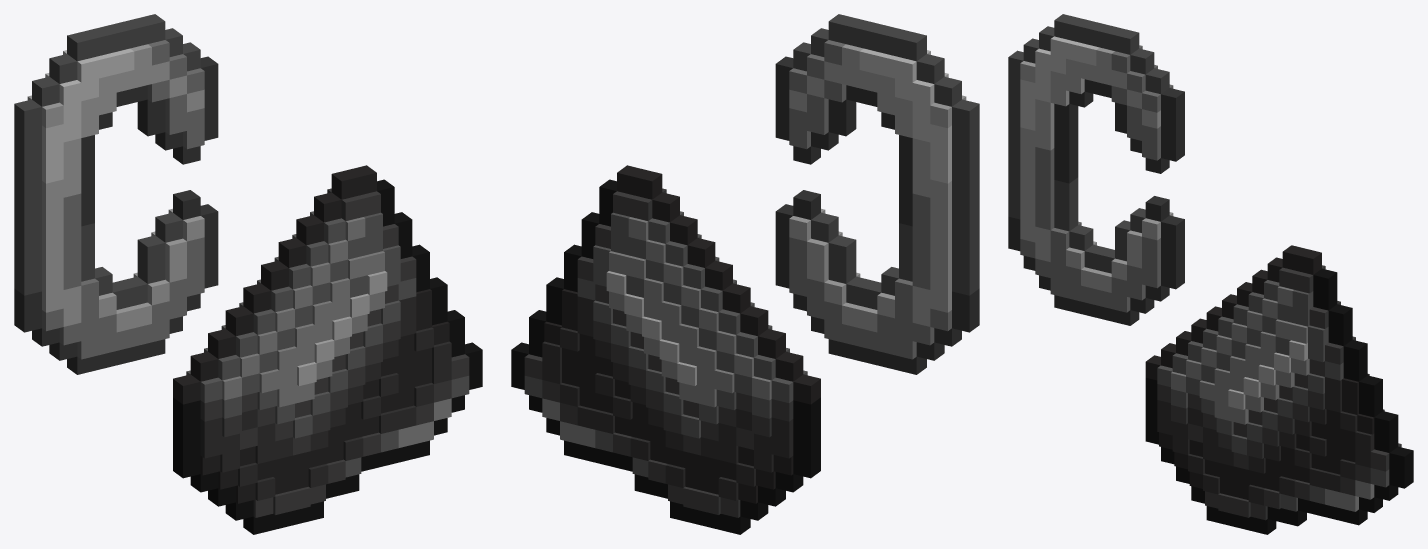
File: flint_and_steel.gltf
3 renders of one model, left to right at view 1: azimuth 30°, elevation 25°; view 2: azimuth 150°, elevation 25°; view 3: azimuth 330°, elevation 25°, orthographic. The views are drawn at different scales.
Visible parts, largest first — view 1: 2e89ff89-7f1c-f20c-6b37-94a4aad4f349, 874f2fcc-95f9-daad-d79f-1fd7f26d0c9c, 3a9b9eb3-7bf6-0447-aec5-06a8ca1baee4, d02a0d52-06c9-35c9-1c85-1621d88c927f, 73e2785c-5d25-9f58-1f35-d66bf0116b89, 7d16d244-9094-1159-dfb6-5b3142d85cbd, fdf95f4b-ac48-5818-5d3e-8d692c374ca5, 5b39531d-0bf9-eeb9-8426-293878772958, 8e9509f9-c2ca-06b1-7543-3f88b6f4b1ee, 52ed979d-135c-8628-5335-ab177759d040, 63164bf8-4432-d424-8bcd-0da6cb3588f1, d06b6376-a676-254c-1184-9c52ab6865c1 (+7 smaller); view 2: 2e89ff89-7f1c-f20c-6b37-94a4aad4f349, 874f2fcc-95f9-daad-d79f-1fd7f26d0c9c, 3a9b9eb3-7bf6-0447-aec5-06a8ca1baee4, d02a0d52-06c9-35c9-1c85-1621d88c927f, 73e2785c-5d25-9f58-1f35-d66bf0116b89, 7d16d244-9094-1159-dfb6-5b3142d85cbd, fdf95f4b-ac48-5818-5d3e-8d692c374ca5, 5b39531d-0bf9-eeb9-8426-293878772958, 8e9509f9-c2ca-06b1-7543-3f88b6f4b1ee, 52ed979d-135c-8628-5335-ab177759d040, 63164bf8-4432-d424-8bcd-0da6cb3588f1, d06b6376-a676-254c-1184-9c52ab6865c1 (+7 smaller); view 3: 84a2991b-6203-9f57-4290-29fb92542616, 29a04b55-83eb-6664-58ca-eca6adff6029, 500216b6-ee92-0c1f-39d1-578d0d23c7f4, 2288a6da-fec9-92b4-72eb-2792d8fe10b9, 8fe50251-78f1-d889-354b-db48e8ae45eb, 6845fa29-3194-8ff2-214e-f18df4dbf055, 1cef0a62-3781-9269-e3dc-9a1cabcce1b9, 04b38a90-aa01-f1f3-3586-ced8c462b234, 1b57e6e7-e02a-7907-07b4-cd433823f39e, fab6f1ab-2dbf-2ce8-6490-75a6d9255e63, 98b4e036-bc4d-bbcf-fc09-87e22f4b2986, c82f5584-befa-9412-542e-a5433ff2aa45 (+2 smaller).
Part boxes in pixels (x1=…): 2e89ff89-7f1c-f20c-6b37-94a4aad4f349: x1=190, y1=351, x2=218, y2=381; 874f2fcc-95f9-daad-d79f-1fd7f26d0c9c: x1=278, y1=238, x2=306, y2=267; 3a9b9eb3-7bf6-0447-aec5-06a8ca1baee4: x1=137, y1=235, x2=165, y2=265; d02a0d52-06c9-35c9-1c85-1621d88c927f: x1=331, y1=169, x2=359, y2=199; 73e2785c-5d25-9f58-1f35-d66bf0116b89: x1=225, y1=306, x2=253, y2=336; 7d16d244-9094-1159-dfb6-5b3142d85cbd: x1=243, y1=283, x2=271, y2=313; fdf95f4b-ac48-5818-5d3e-8d692c374ca5: x1=49, y1=54, x2=77, y2=83; 5b39531d-0bf9-eeb9-8426-293878772958: x1=14, y1=99, x2=41, y2=129; 8e9509f9-c2ca-06b1-7543-3f88b6f4b1ee: x1=173, y1=374, x2=200, y2=404; 52ed979d-135c-8628-5335-ab177759d040: x1=314, y1=192, x2=341, y2=222; 63164bf8-4432-d424-8bcd-0da6cb3588f1: x1=155, y1=212, x2=182, y2=242; d06b6376-a676-254c-1184-9c52ab6865c1: x1=67, y1=31, x2=94, y2=61; 2e89ff89-7f1c-f20c-6b37-94a4aad4f349: x1=775, y1=351, x2=803, y2=381; 874f2fcc-95f9-daad-d79f-1fd7f26d0c9c: x1=687, y1=238, x2=715, y2=267; 3a9b9eb3-7bf6-0447-aec5-06a8ca1baee4: x1=828, y1=235, x2=856, y2=265; d02a0d52-06c9-35c9-1c85-1621d88c927f: x1=634, y1=169, x2=662, y2=199; 73e2785c-5d25-9f58-1f35-d66bf0116b89: x1=740, y1=306, x2=768, y2=336; 7d16d244-9094-1159-dfb6-5b3142d85cbd: x1=722, y1=283, x2=750, y2=313; fdf95f4b-ac48-5818-5d3e-8d692c374ca5: x1=916, y1=54, x2=944, y2=83; 5b39531d-0bf9-eeb9-8426-293878772958: x1=952, y1=99, x2=979, y2=129; 8e9509f9-c2ca-06b1-7543-3f88b6f4b1ee: x1=793, y1=374, x2=820, y2=404; 52ed979d-135c-8628-5335-ab177759d040: x1=652, y1=192, x2=679, y2=222; 63164bf8-4432-d424-8bcd-0da6cb3588f1: x1=811, y1=212, x2=838, y2=242; d06b6376-a676-254c-1184-9c52ab6865c1: x1=899, y1=31, x2=926, y2=61; 84a2991b-6203-9f57-4290-29fb92542616: x1=1389, y1=446, x2=1413, y2=472; 29a04b55-83eb-6664-58ca-eca6adff6029: x1=1343, y1=340, x2=1367, y2=365; 500216b6-ee92-0c1f-39d1-578d0d23c7f4: x1=1328, y1=304, x2=1352, y2=330; 2288a6da-fec9-92b4-72eb-2792d8fe10b9: x1=1130, y1=48, x2=1154, y2=74; 8fe50251-78f1-d889-354b-db48e8ae45eb: x1=1374, y1=411, x2=1398, y2=436; 6845fa29-3194-8ff2-214e-f18df4dbf055: x1=1069, y1=225, x2=1093, y2=250; 1cef0a62-3781-9269-e3dc-9a1cabcce1b9: x1=1313, y1=268, x2=1337, y2=294; 04b38a90-aa01-f1f3-3586-ced8c462b234: x1=1145, y1=196, x2=1169, y2=221; 1b57e6e7-e02a-7907-07b4-cd433823f39e: x1=1145, y1=68, x2=1169, y2=94; fab6f1ab-2dbf-2ce8-6490-75a6d9255e63: x1=1115, y1=29, x2=1139, y2=54; 98b4e036-bc4d-bbcf-fc09-87e22f4b2986: x1=1161, y1=215, x2=1184, y2=241; c82f5584-befa-9412-542e-a5433ff2aa45: x1=1359, y1=375, x2=1382, y2=401.
Bounding box in the file's own units: 13 × 14.5 × 1.5.
2 materials, 2 textured.
